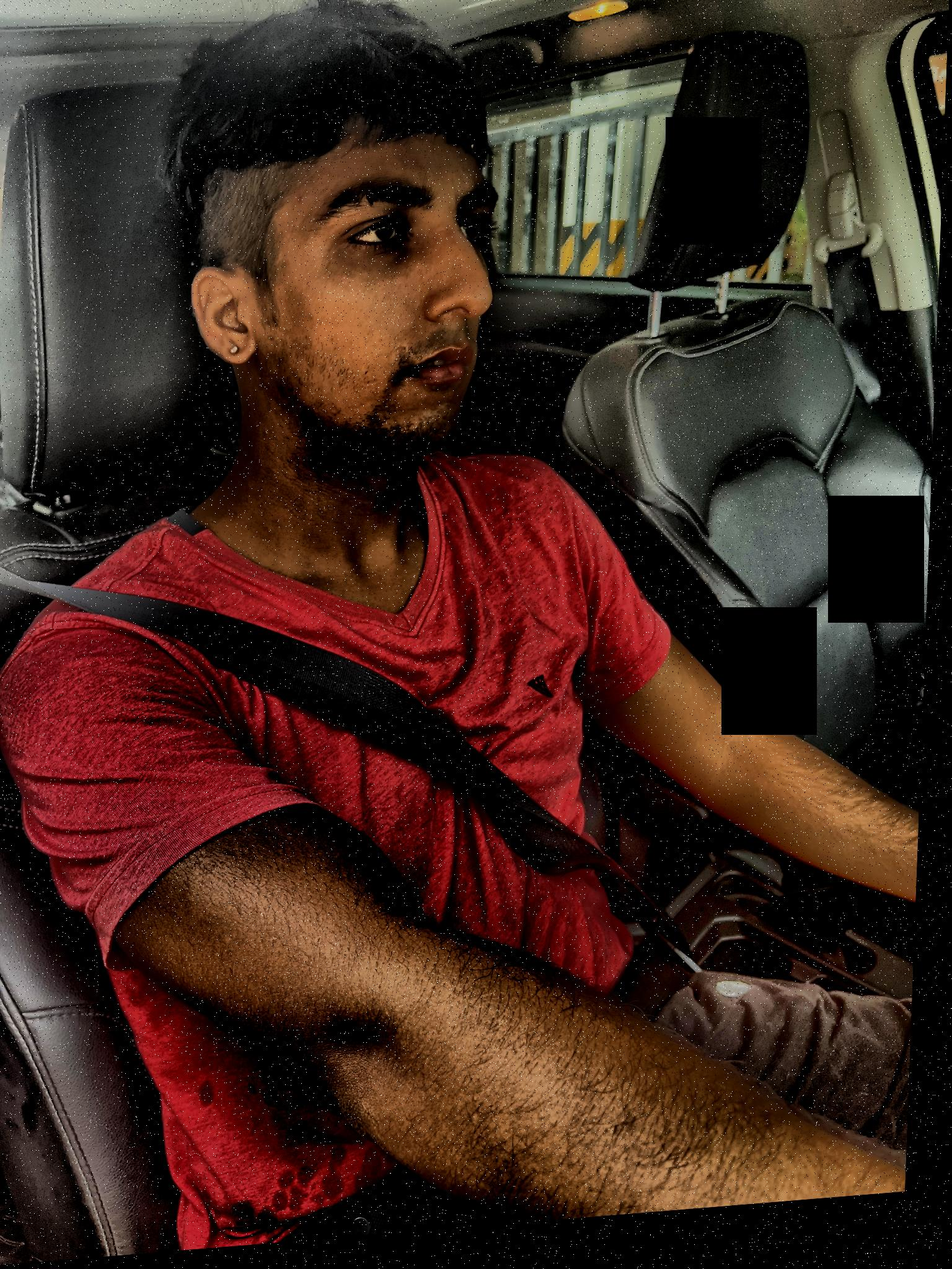seatbelt: (0, 453, 792, 1078)
